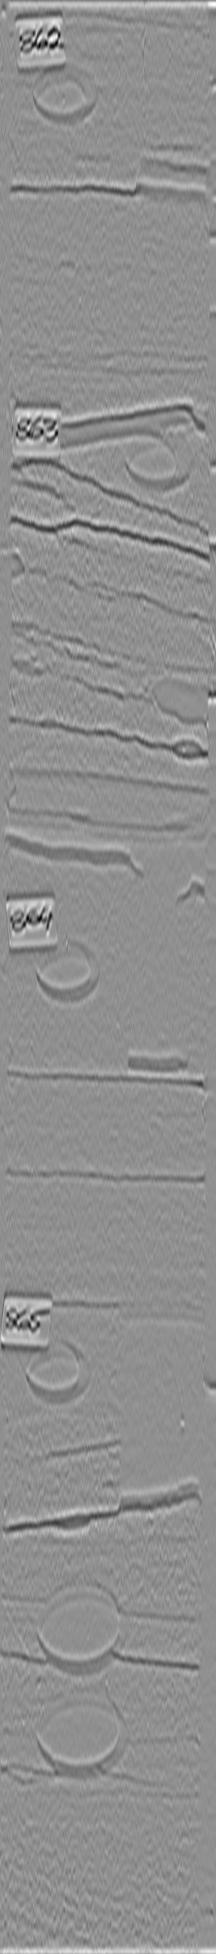hplug: (29, 930, 107, 1006), (19, 1336, 92, 1412), (27, 54, 102, 126), (119, 422, 194, 493)
scal: (31, 1686, 131, 1785), (32, 1578, 131, 1676)
vplug: (115, 1294, 197, 1518), (119, 854, 197, 1080), (134, 1, 207, 204)
